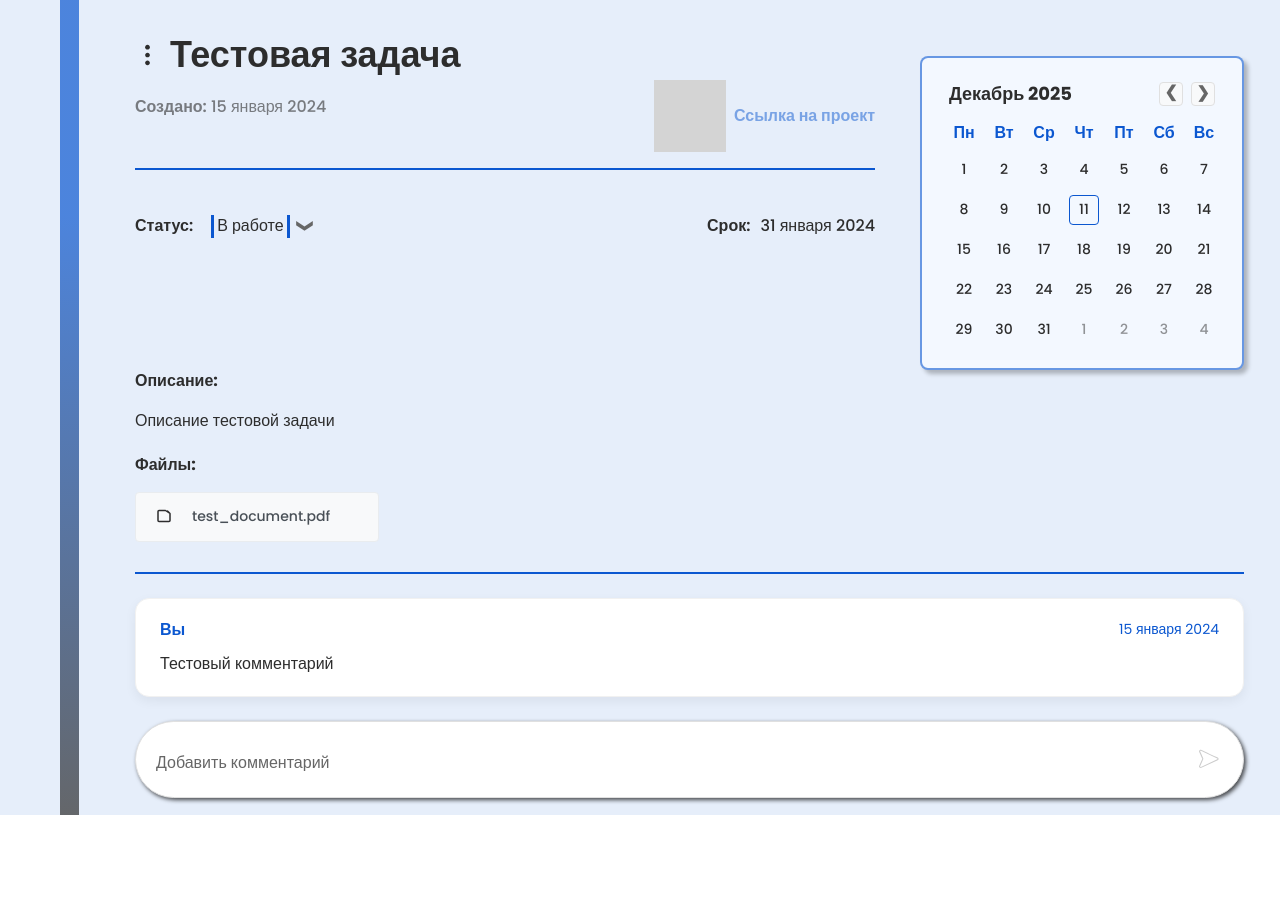
TaskInfo Component › Manager actions › should open delete modal when manager clicks delete
Click the button with test id "manager-edit-button" at (148, 55), box [135,43,160,68]
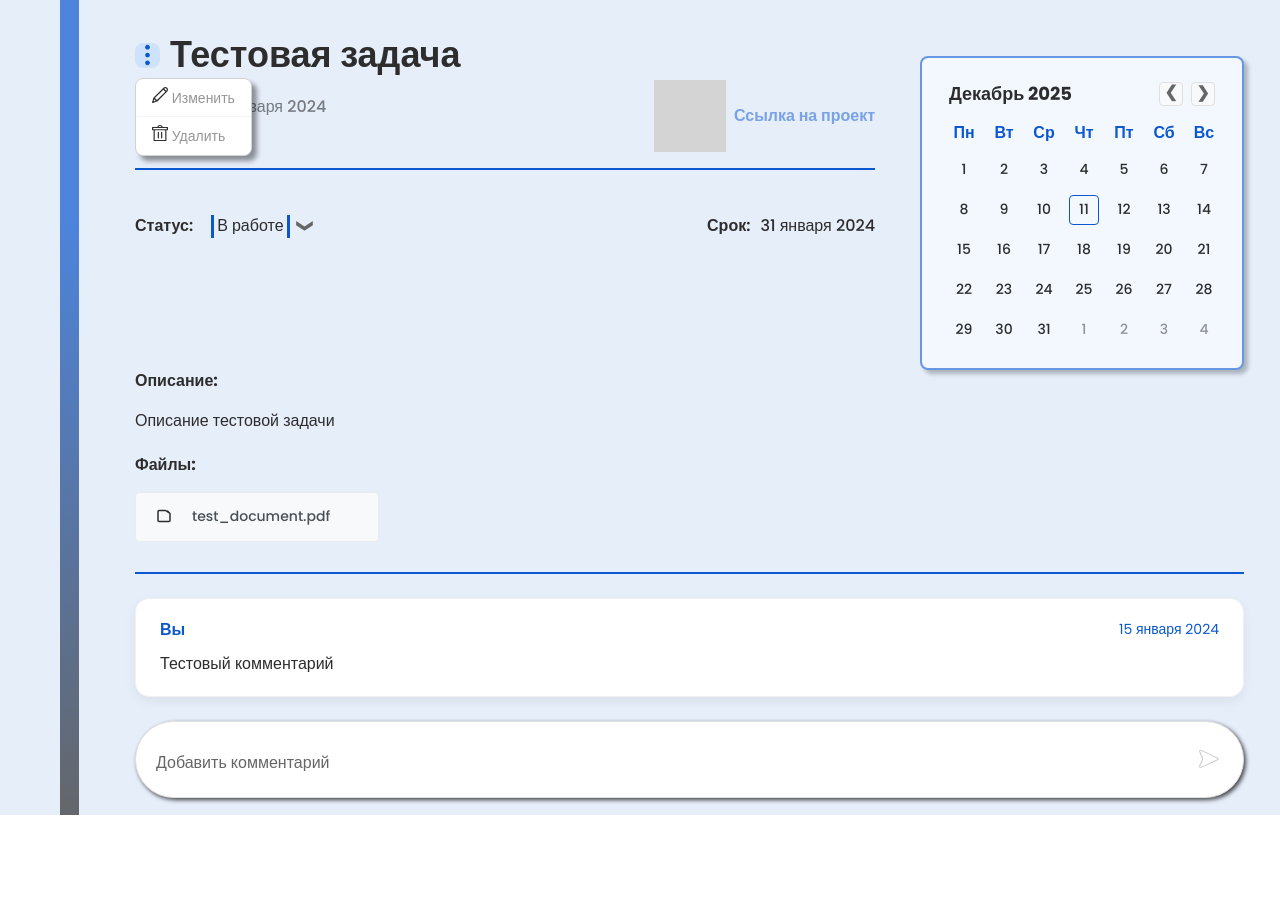
Click the element with test id "delete-task-btn" at (189, 136), box [152,125,225,146]
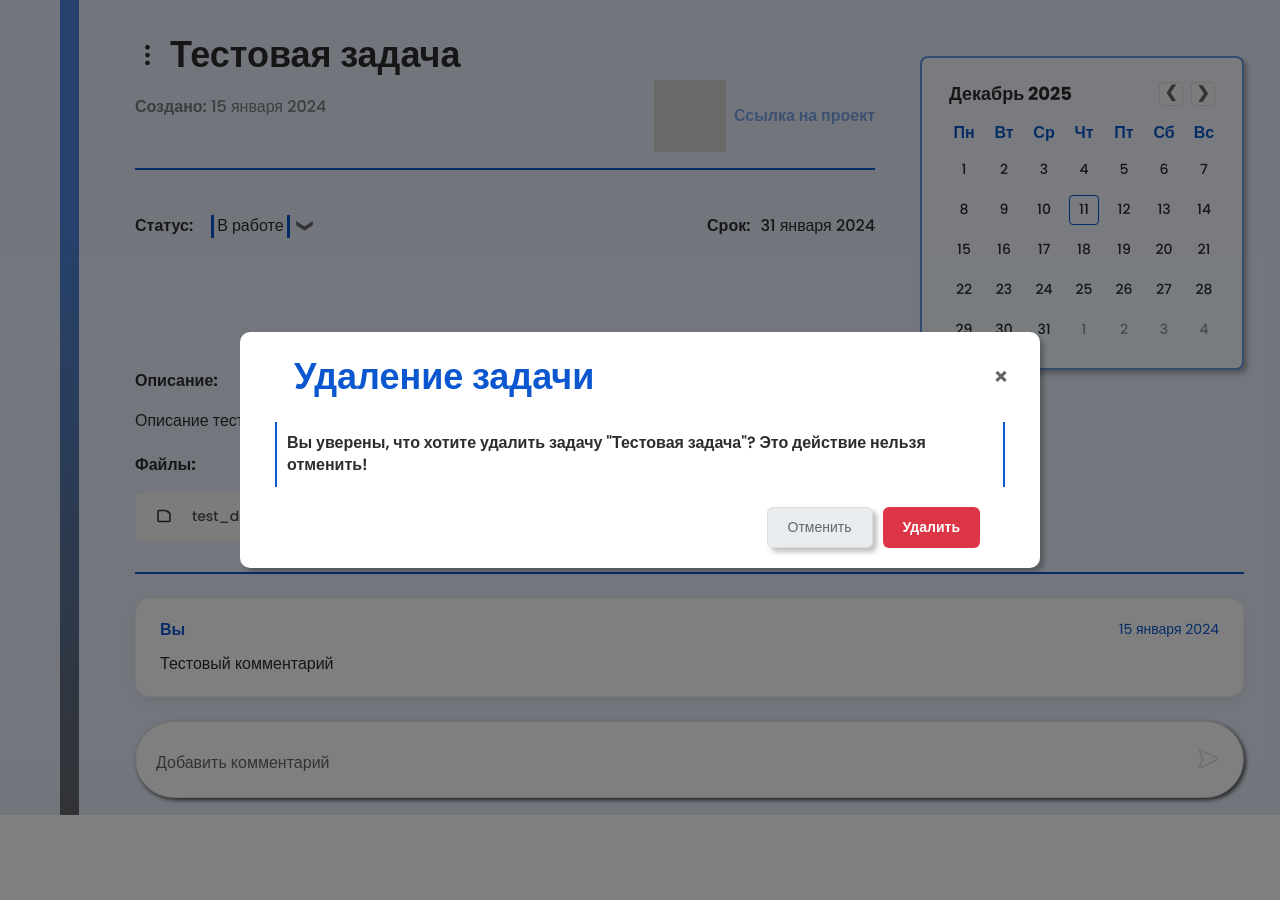
Expected: the heading "Удаление задачи" is shown, [294,352,594,402]
